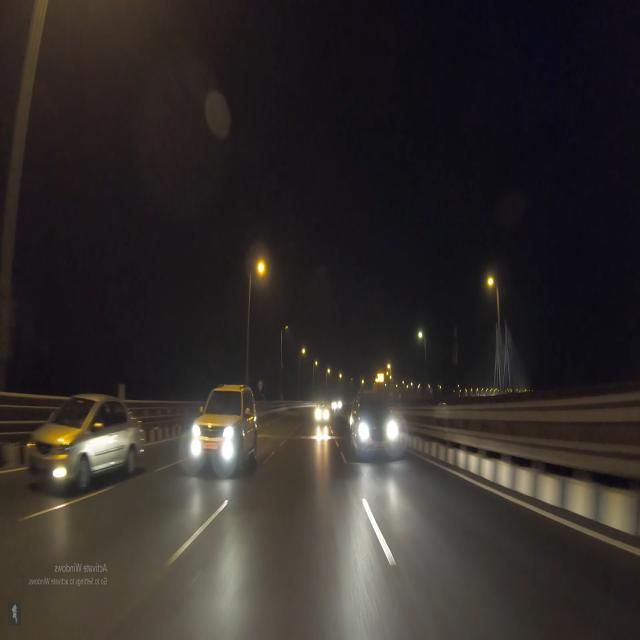headlights: (188, 417, 239, 467), (351, 411, 401, 456), (312, 406, 331, 424)
